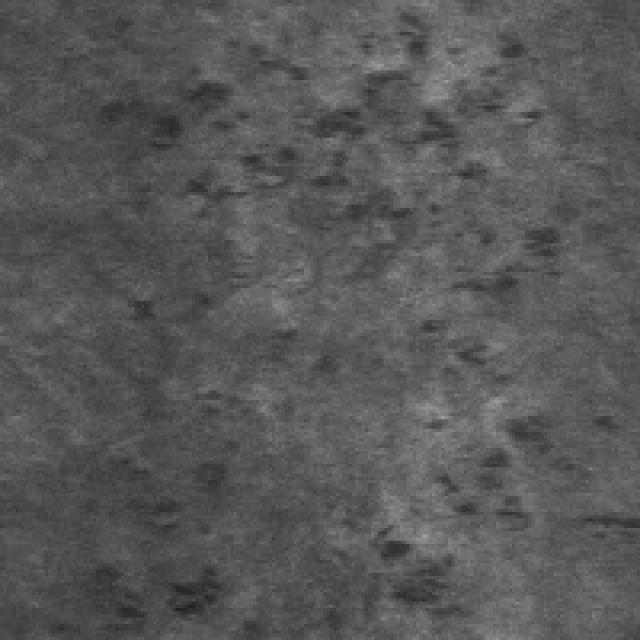rolled-in_scale: (93, 7, 560, 276), (323, 269, 541, 627), (93, 448, 237, 624)
